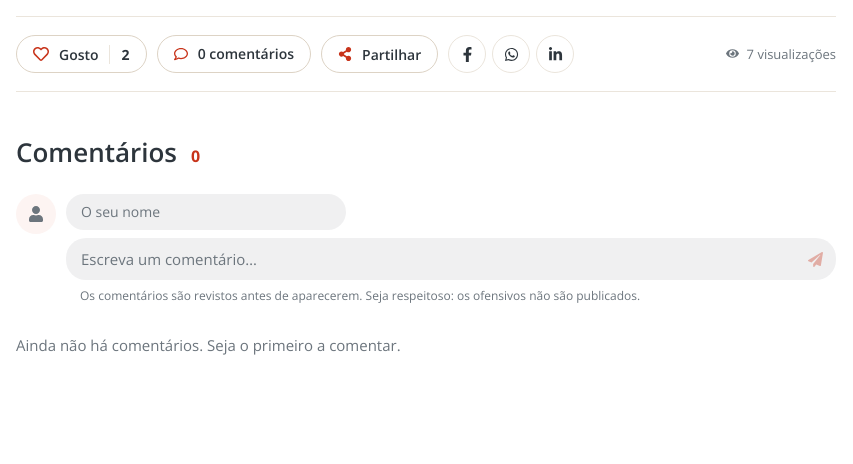
Scenario: Interacoes (gostos e comentários no site) › o comentário fica à espera de aprovação; quando é aprovado aparece sem recarregar a página
The width and height of the screenshot is (853, 464).
Expected: the text "7 visualizações" is shown, x1=726 y1=44 x2=836 y2=64
Type "Ana Silva" into the field labelled "nome". click: [206, 212]
box: x1=66 y1=194 x2=346 y2=230
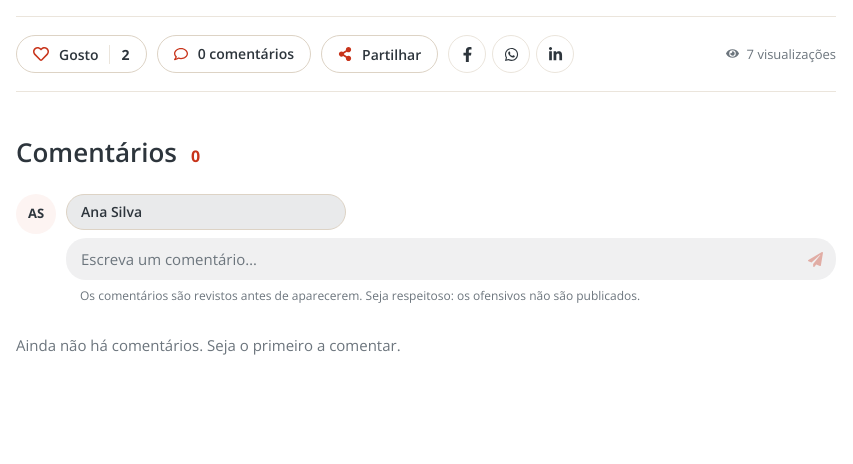
Type "Parabéns à Escola" into the text box labelled "comentário". click: [438, 259]
box: x1=81 y1=243 x2=795 y2=275
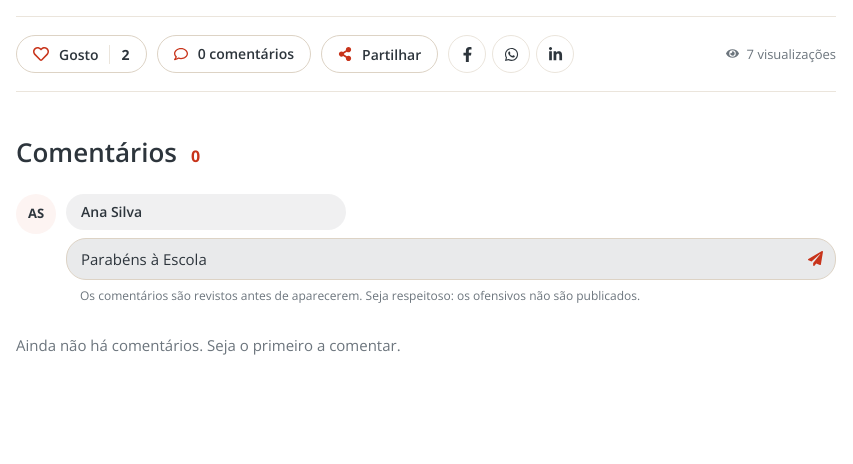
Click the button named "Publicar comentário". click: [815, 259]
box: x1=799 y1=243 x2=831 y2=275
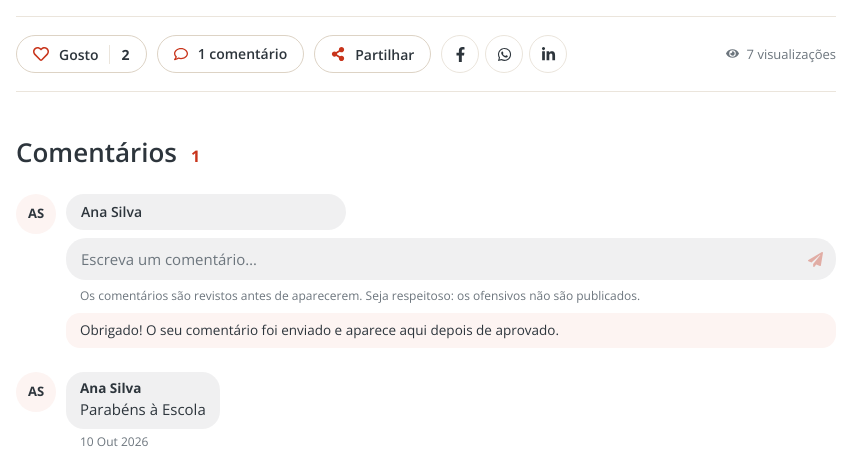
Expected: the message shows "aparece aqui depois de aprovado", x1=80 y1=321 x2=559 y2=339
Expected: the text "Parabéns à Escola" is shown, x1=80 y1=399 x2=206 y2=420
